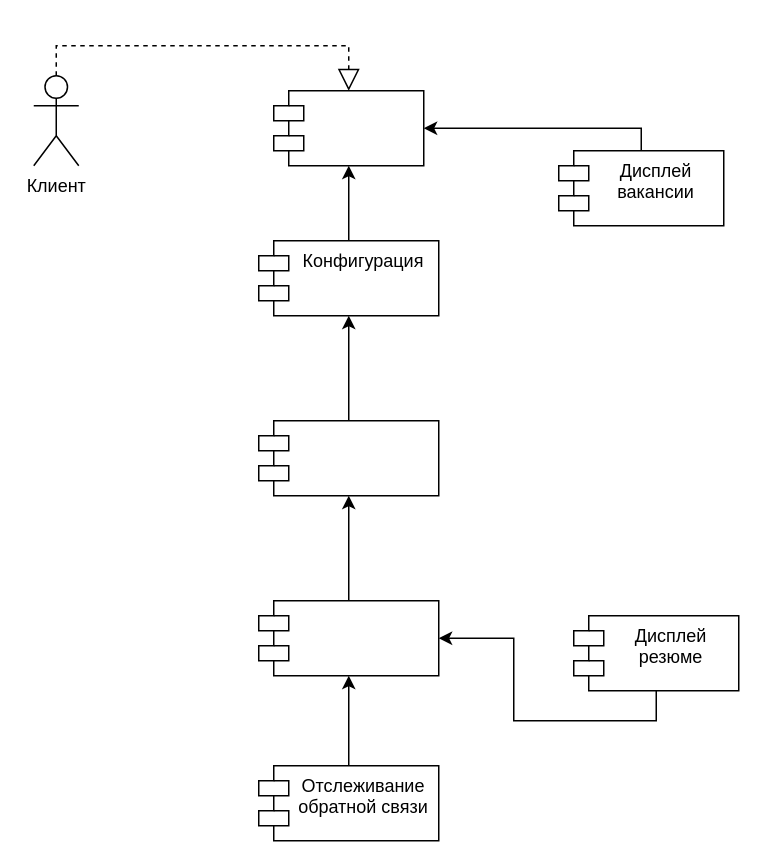
This 765x867 diagram has some shape labels left out. Here are the shapes that lost their labels. From the top down, the centre of each, then its label:
pixel 348 127: Список вакансий
pixel 348 457: Трудоустройство
pixel 348 637: Отправка резюме
